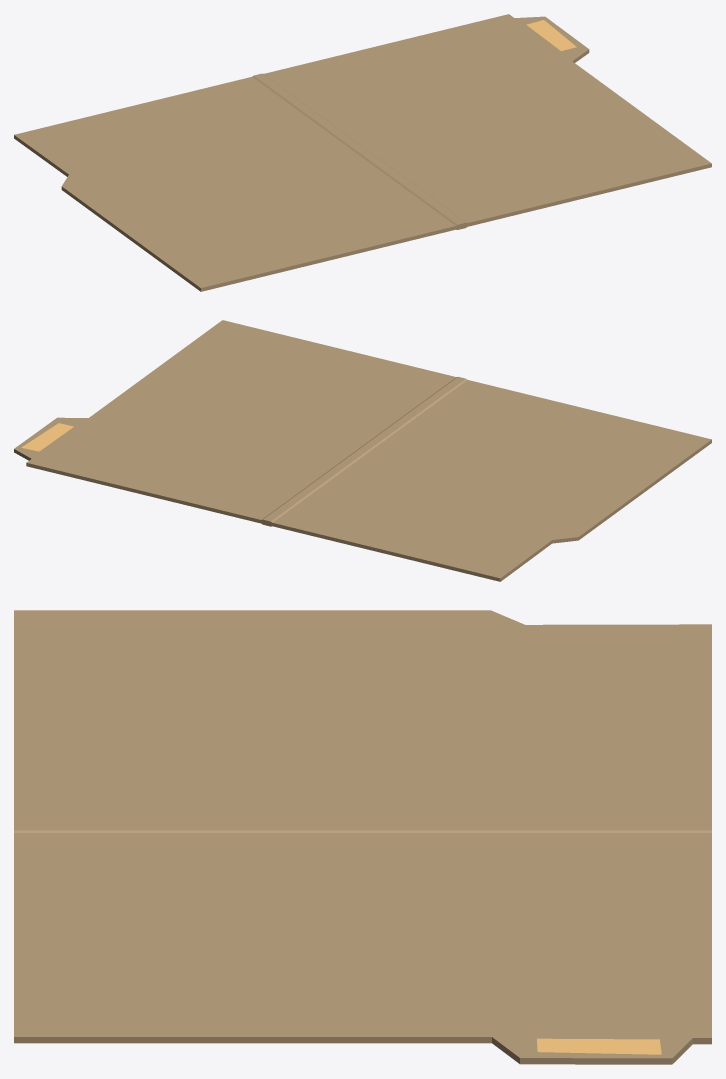
Rendered from Akte.fbx.
3 renders of one model, top to bottom at view 1: azimuth 30°, elevation 25°; view 2: azimuth 150°, elevation 25°; view 3: azimuth 270°, elevation 25°, orthographic. The views are drawn at different scales.
Parts seen in each view (by area): view 1: Aktenfolder; view 2: Aktenfolder; view 3: Aktenfolder.
Part boxes in pixels (x1=…): Aktenfolder: x1=14, y1=14, x2=711, y2=291; Aktenfolder: x1=14, y1=320, x2=711, y2=581; Aktenfolder: x1=14, y1=610, x2=711, y2=1064.
Size of the model in its own units: 304 by 2.86 by 200.
